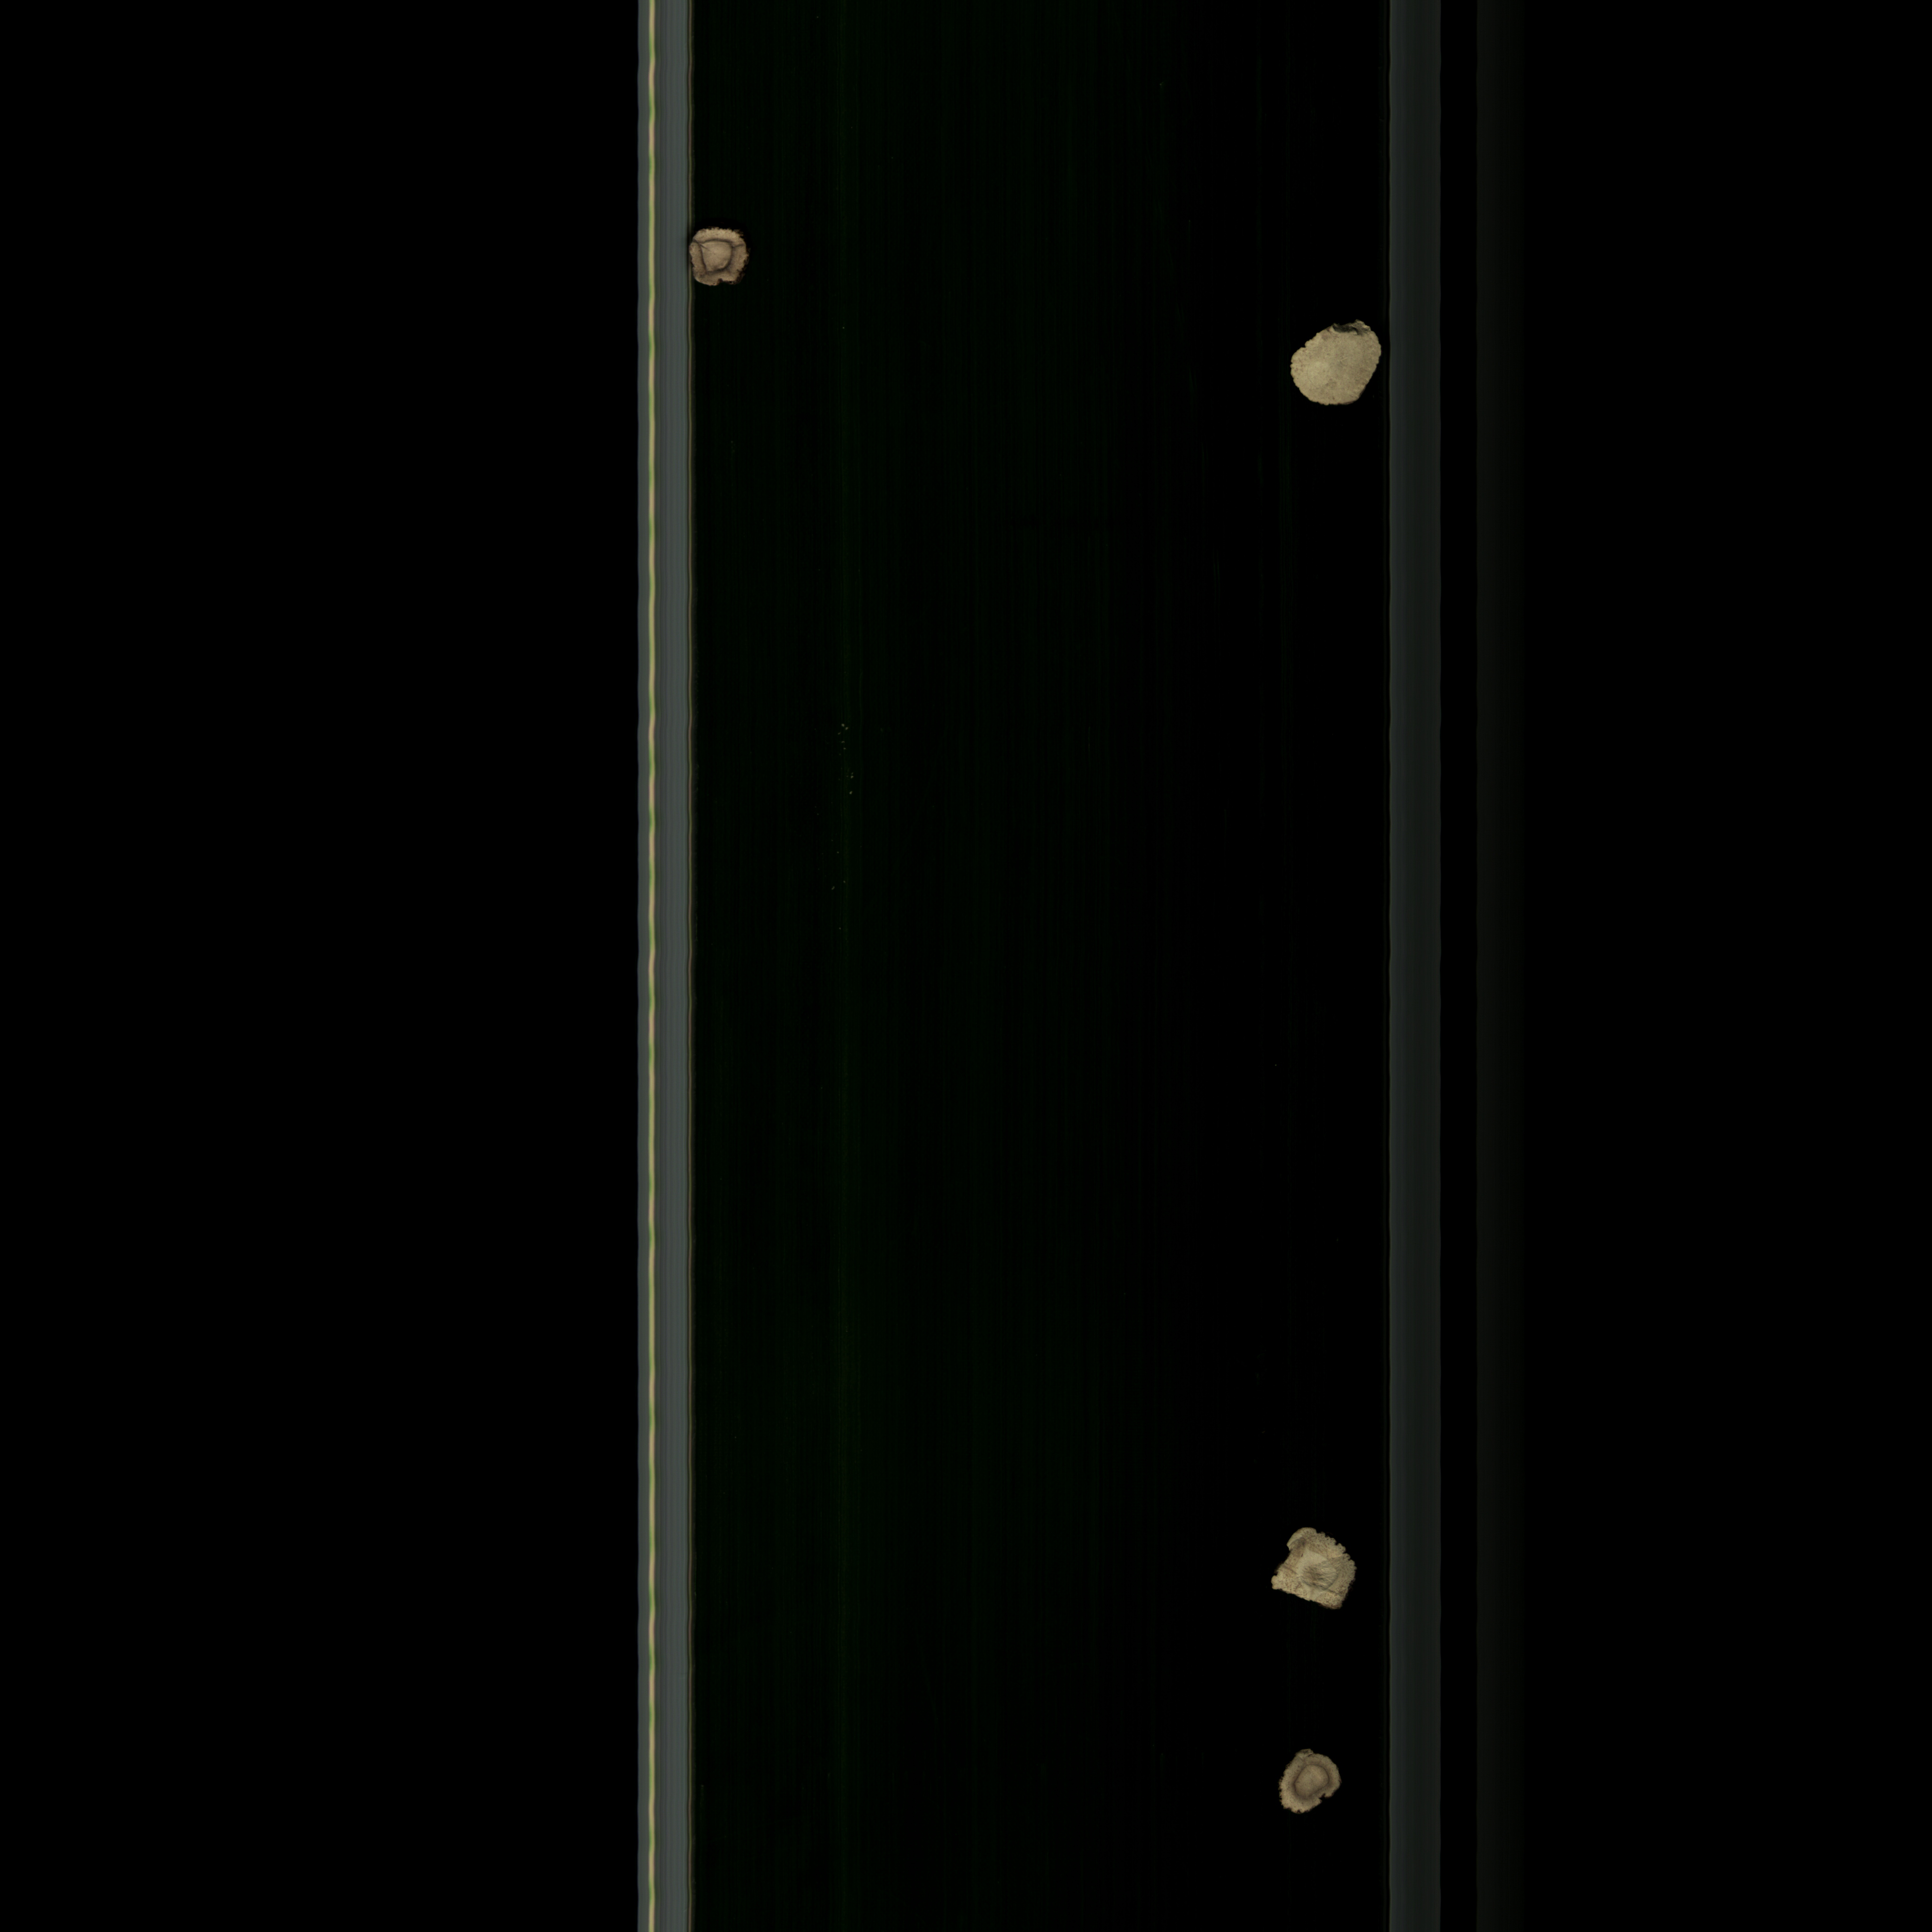debris: (1284, 313, 1387, 423), (1270, 1522, 1359, 1617)
moldy: (1270, 1746, 1348, 1822), (678, 225, 757, 295)
